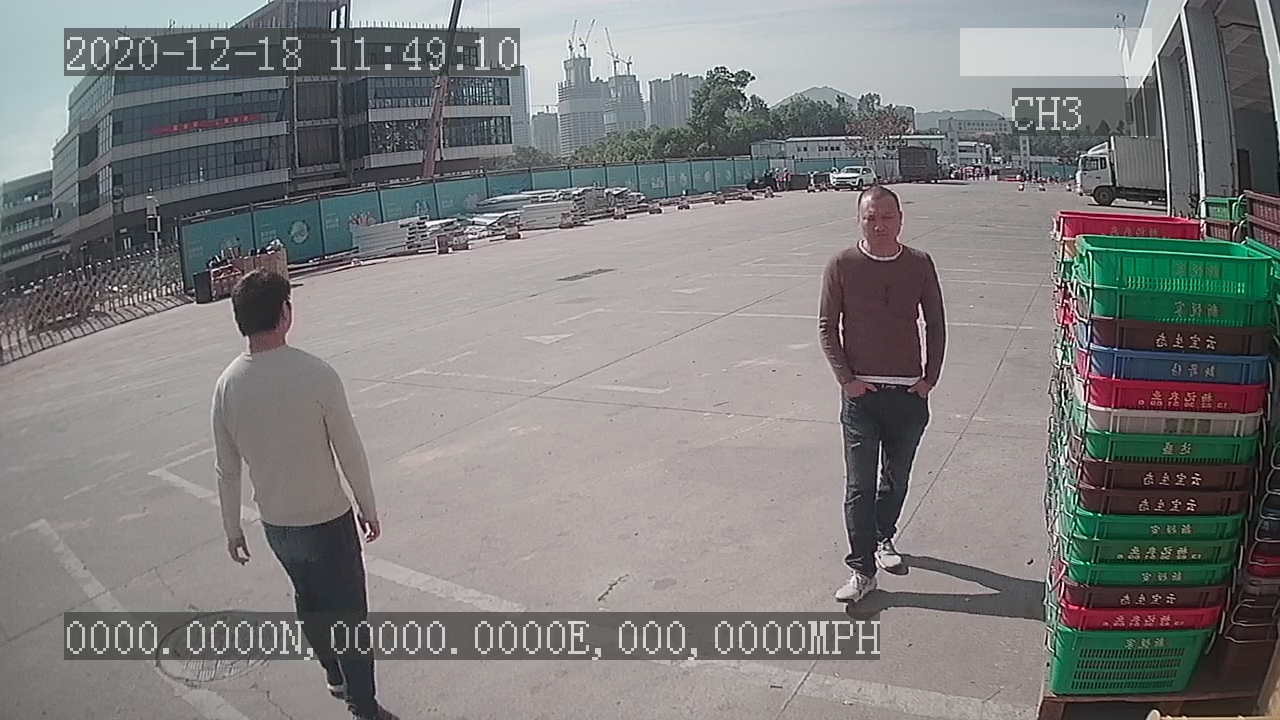person: (815, 181, 952, 610)
